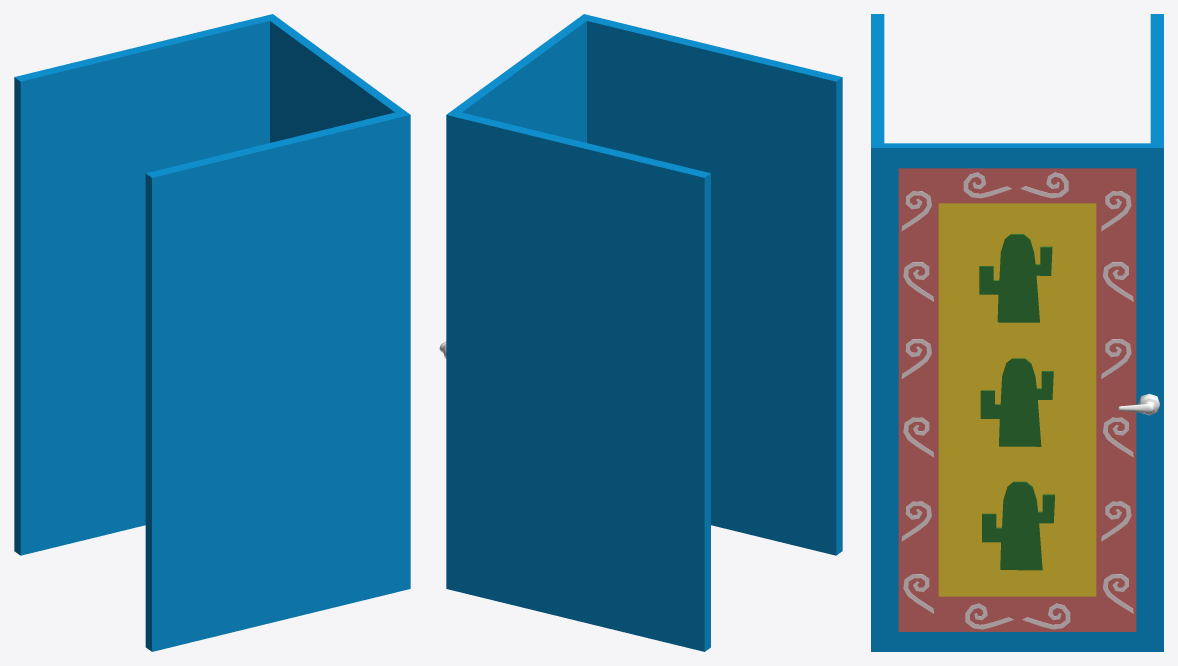
The model's file is MXC_Restroom_StallMale_Lv3.fbx.
3 renders of one model, left to right at view 1: azimuth 30°, elevation 25°; view 2: azimuth 150°, elevation 25°; view 3: azimuth 270°, elevation 25°, orthographic. The views are drawn at different scales.
Visible parts, largest first — view 1: MXC_Restroom_StallMale_Lv3; view 2: MXC_Restroom_StallMale_Lv3; view 3: MXC_Restroom_StallMale_Lv3.
Part boxes in pixels (x1=…): MXC_Restroom_StallMale_Lv3: x1=14, y1=14, x2=410, y2=651; MXC_Restroom_StallMale_Lv3: x1=439, y1=14, x2=842, y2=651; MXC_Restroom_StallMale_Lv3: x1=871, y1=14, x2=1163, y2=651.
Bounding box in the file's own units: 227 × 380 × 200.
